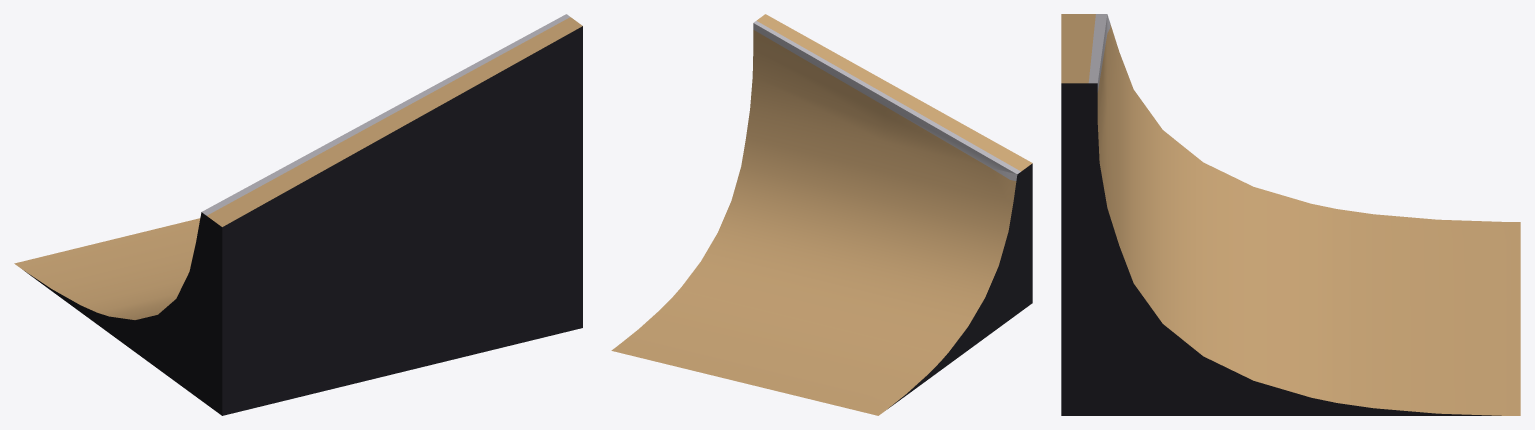
File: Quater_LRG_HighVert_RL1.fbx
3 views of the same model, side by side, from view 1: azimuth 30°, elevation 25°; view 2: azimuth 150°, elevation 25°; view 3: azimuth 270°, elevation 25° (orthographic). The views are drawn at different scales.
Parts seen in each view (by area): view 1: Quater_LRG_HighVert_RL1; view 2: Quater_LRG_HighVert_RL1; view 3: Quater_LRG_HighVert_RL1.
Boxes of the visible parts, x1,y1,x2,y2 form: Quater_LRG_HighVert_RL1: [14, 14, 582, 415]; Quater_LRG_HighVert_RL1: [611, 14, 1032, 415]; Quater_LRG_HighVert_RL1: [1061, 14, 1520, 415].
Bounding box in the file's own units: 20 × 16 × 20.
